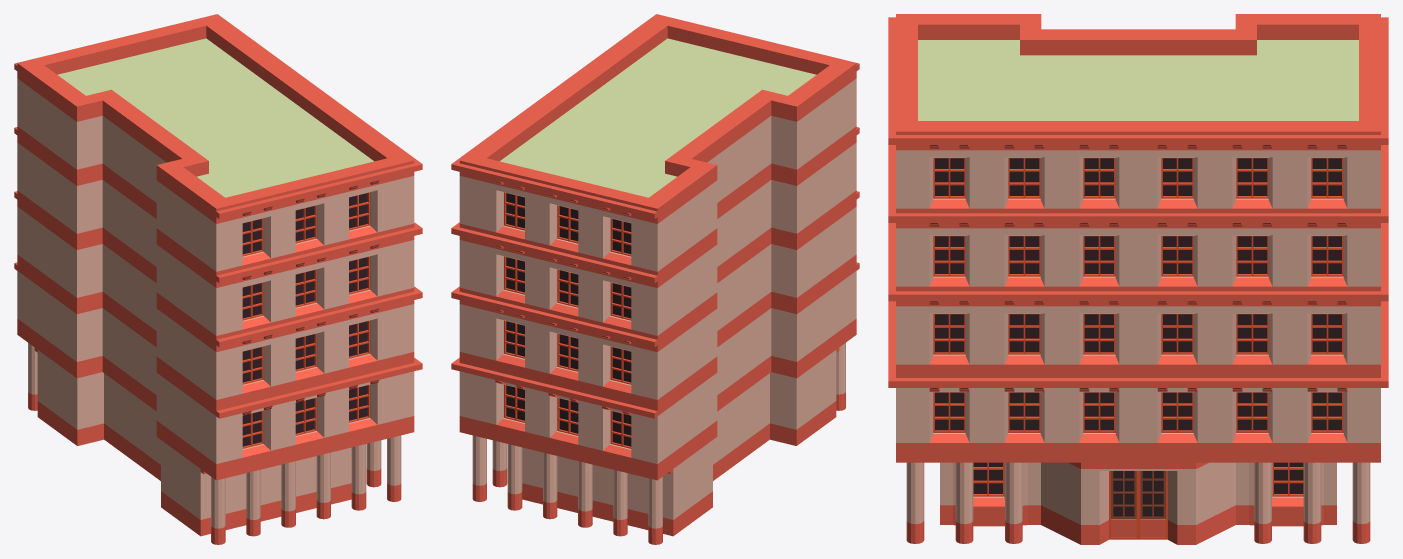
Rendered from edificio3 (2x1).fbx.
The picture shows the model from 3 angles, left to right: view 1: azimuth 30°, elevation 25°; view 2: azimuth 150°, elevation 25°; view 3: azimuth 270°, elevation 25°; orthographic projection. The views are drawn at different scales.
Parts seen in each view (by area): view 1: PublicBuilding_10; view 2: PublicBuilding_10; view 3: PublicBuilding_10.
Boxes of the visible parts, x1=… form: PublicBuilding_10: x1=14, y1=14, x2=422, y2=544; PublicBuilding_10: x1=451, y1=14, x2=859, y2=544; PublicBuilding_10: x1=888, y1=14, x2=1388, y2=544.
Bounding box in the file's own units: 173 × 277 × 302.
